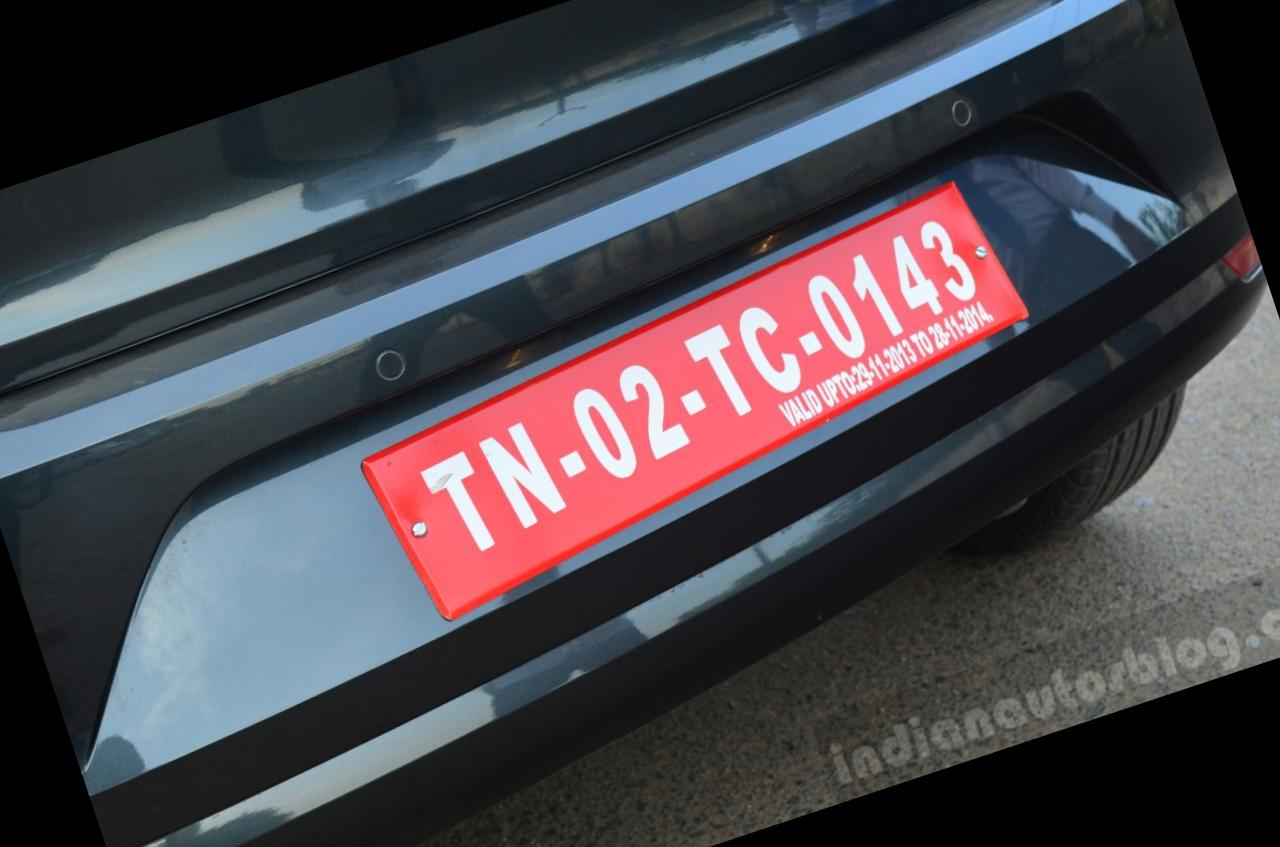plate: (287, 144, 1134, 627)
